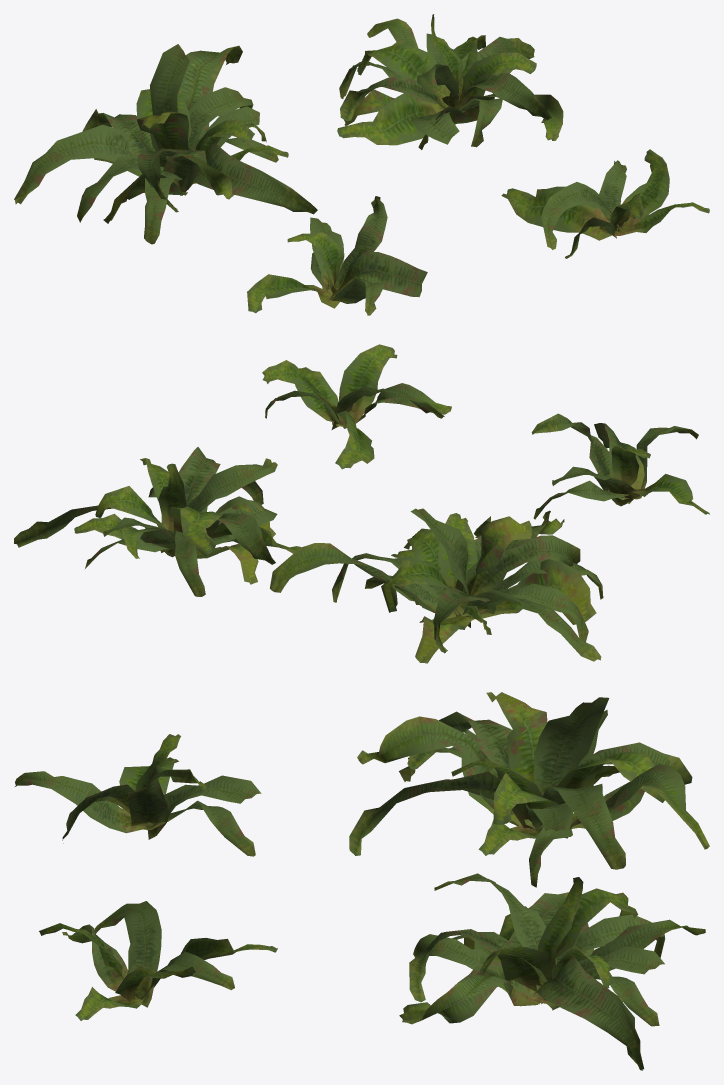
Rendered from fern_02.glb.
3 renders of one model, top to bottom at view 1: azimuth 30°, elevation 25°; view 2: azimuth 150°, elevation 25°; view 3: azimuth 270°, elevation 25°, orthographic. The views are drawn at different scales.
Parts seen in each view (by area): view 1: fern_02_b, fern_02_c, fern_02_d, fern_02_a; view 2: fern_02_b, fern_02_c, fern_02_d, fern_02_a; view 3: fern_02_b, fern_02_c, fern_02_a, fern_02_d.
Boxes of the visible parts, left/top/right/bottom form: fern_02_b: left=14, top=44, right=317, bottom=244; fern_02_c: left=337, top=14, right=563, bottom=149; fern_02_d: left=501, top=149, right=709, bottom=258; fern_02_a: left=247, top=196, right=427, bottom=315; fern_02_b: left=270, top=508, right=603, bottom=663; fern_02_c: left=14, top=447, right=300, bottom=596; fern_02_d: left=262, top=344, right=451, bottom=469; fern_02_a: left=531, top=413, right=709, bottom=519; fern_02_b: left=349, top=692, right=709, bottom=887; fern_02_c: left=399, top=873, right=705, bottom=1070; fern_02_a: left=15, top=734, right=261, bottom=856; fern_02_d: left=39, top=901, right=277, bottom=1020.
Size of the model in its own units: 1.97 by 0.4277 by 1.72.
1 material, 1 textured.
